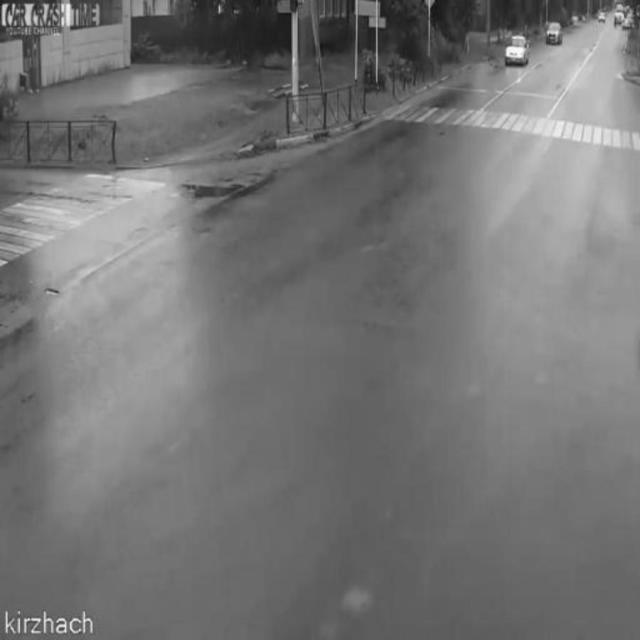vehicle: (506, 32, 531, 66), (544, 22, 564, 46)
